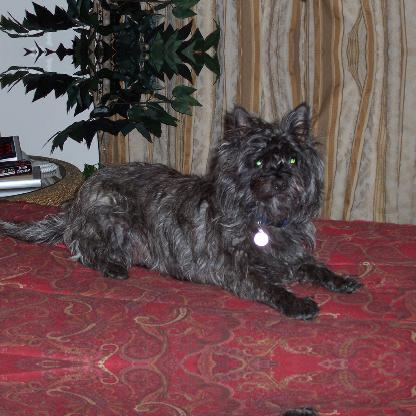Dog: (0, 100, 367, 321)
